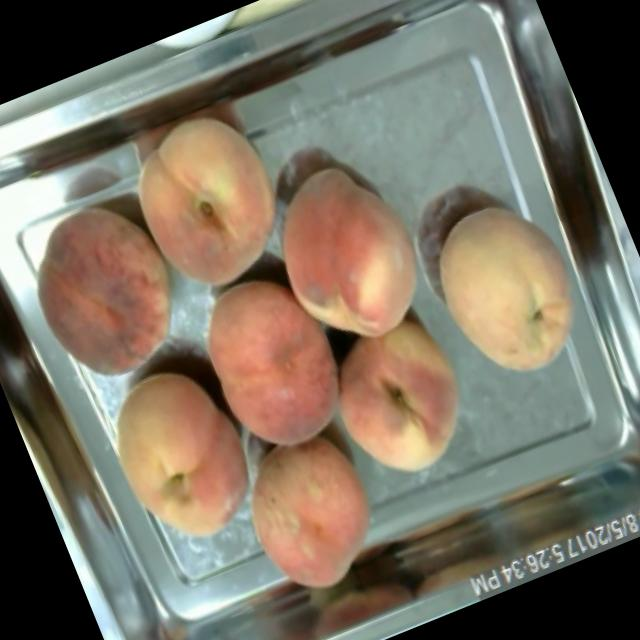Fruit: (242, 137, 452, 372), (0, 178, 210, 407), (406, 173, 614, 404), (103, 90, 314, 316), (79, 343, 280, 573), (175, 251, 369, 475), (305, 298, 495, 503), (218, 416, 402, 606)
